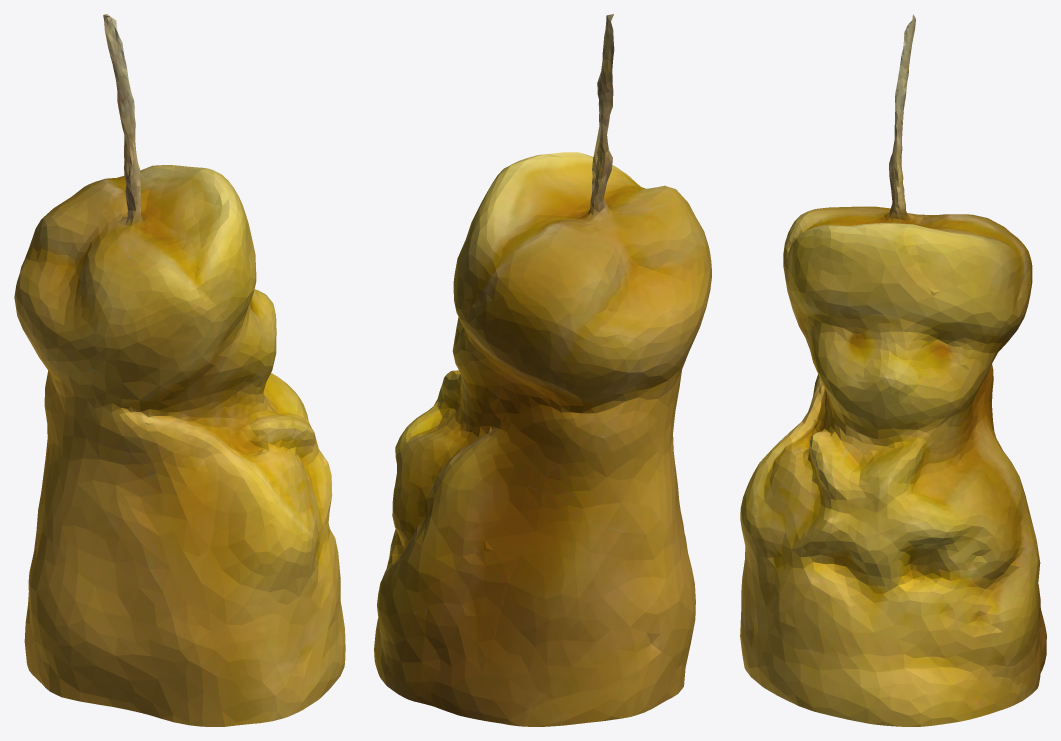
File: ls-candle.glb
3 renders of one model, left to right at view 1: azimuth 30°, elevation 25°; view 2: azimuth 150°, elevation 25°; view 3: azimuth 270°, elevation 25°, orthographic. The views are drawn at different scales.
Visible parts, largest first — view 1: ls-candle; view 2: ls-candle; view 3: ls-candle.
Part boxes in pixels (x1,y1,x2,y2): ls-candle: (14, 14, 345, 726); ls-candle: (374, 14, 711, 726); ls-candle: (740, 14, 1046, 726).
Size of the model in its own units: 0.0861 by 0.1874 by 0.0851.
Materials: 1 (1 with a texture image).
